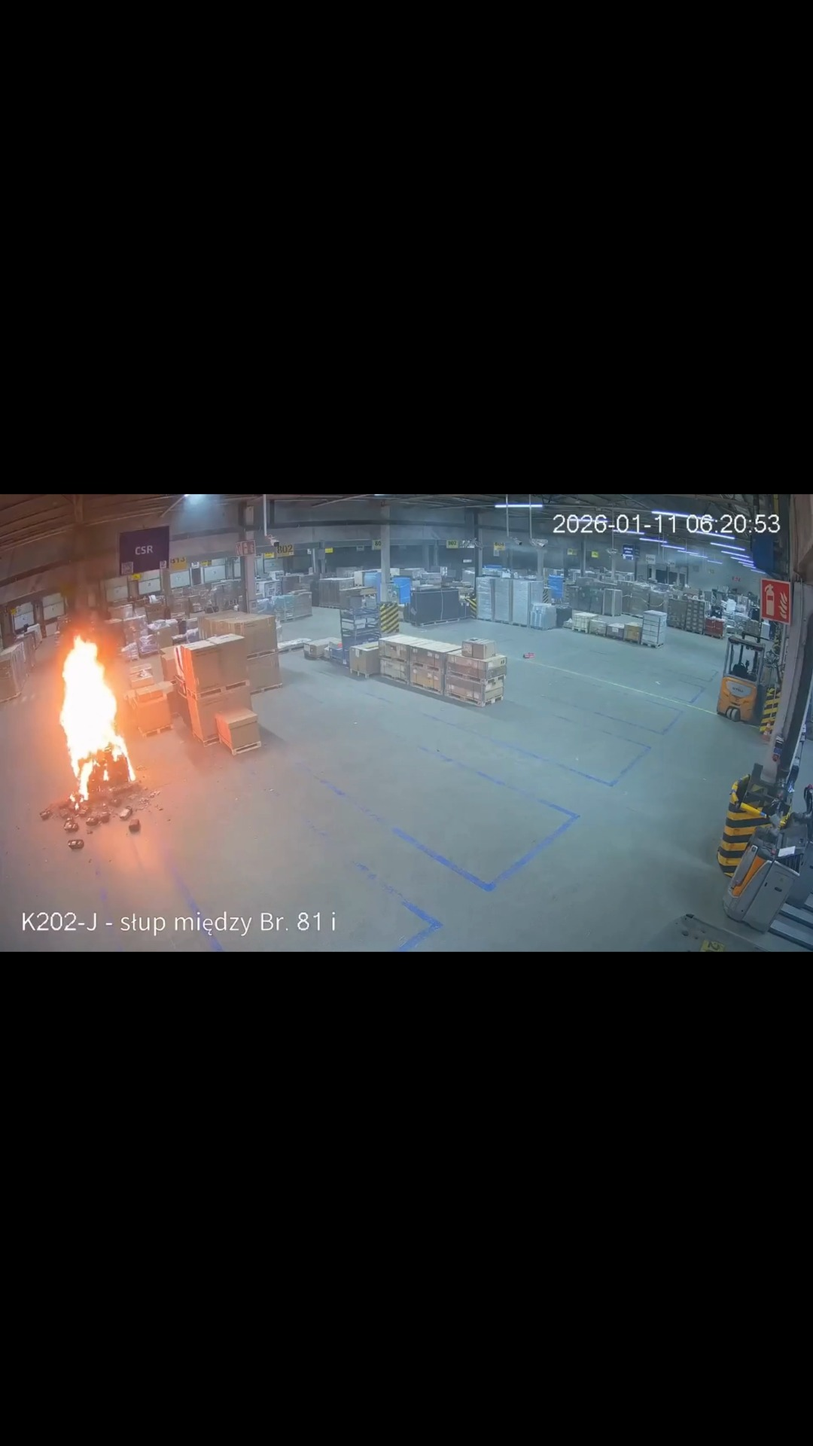fire: (45, 626, 166, 850)
